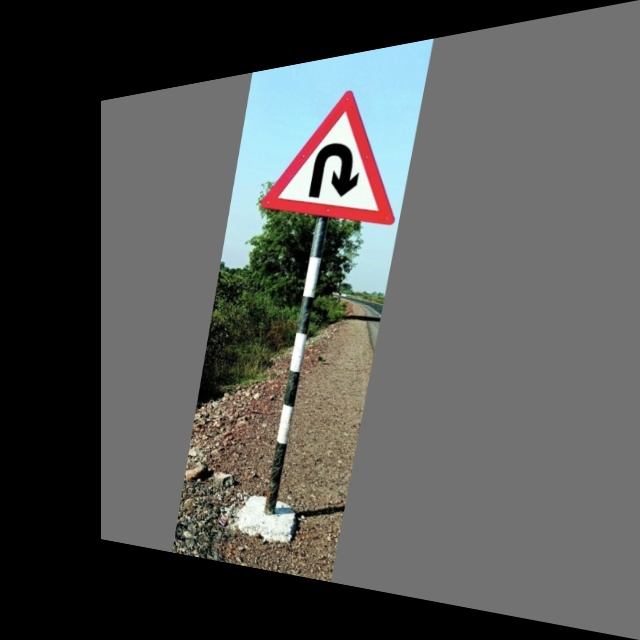Right_Hair_Pin_Bend: (267, 66, 414, 234)
